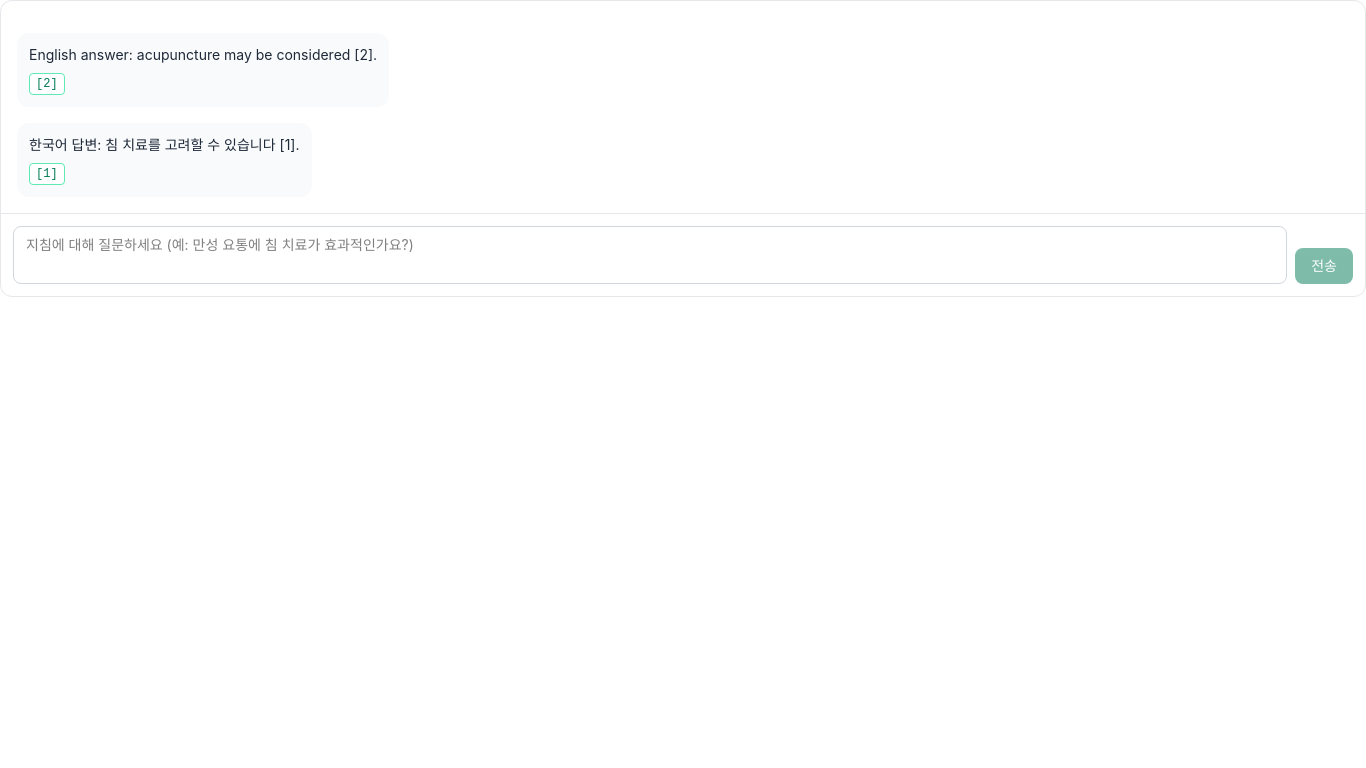
it: ChatPanel 메시지별 콘텐츠 언어 (spec 44) › 기준 27-a·27-b: 한 대화의 ko·en 블록은 각 인용을 자기 언어로 열고 서로의 언어를 누출하지 않는다
This screenshot has width=1366, height=768.
Click the button "[1]". click: (47,174)
box: [29,163,65,185]
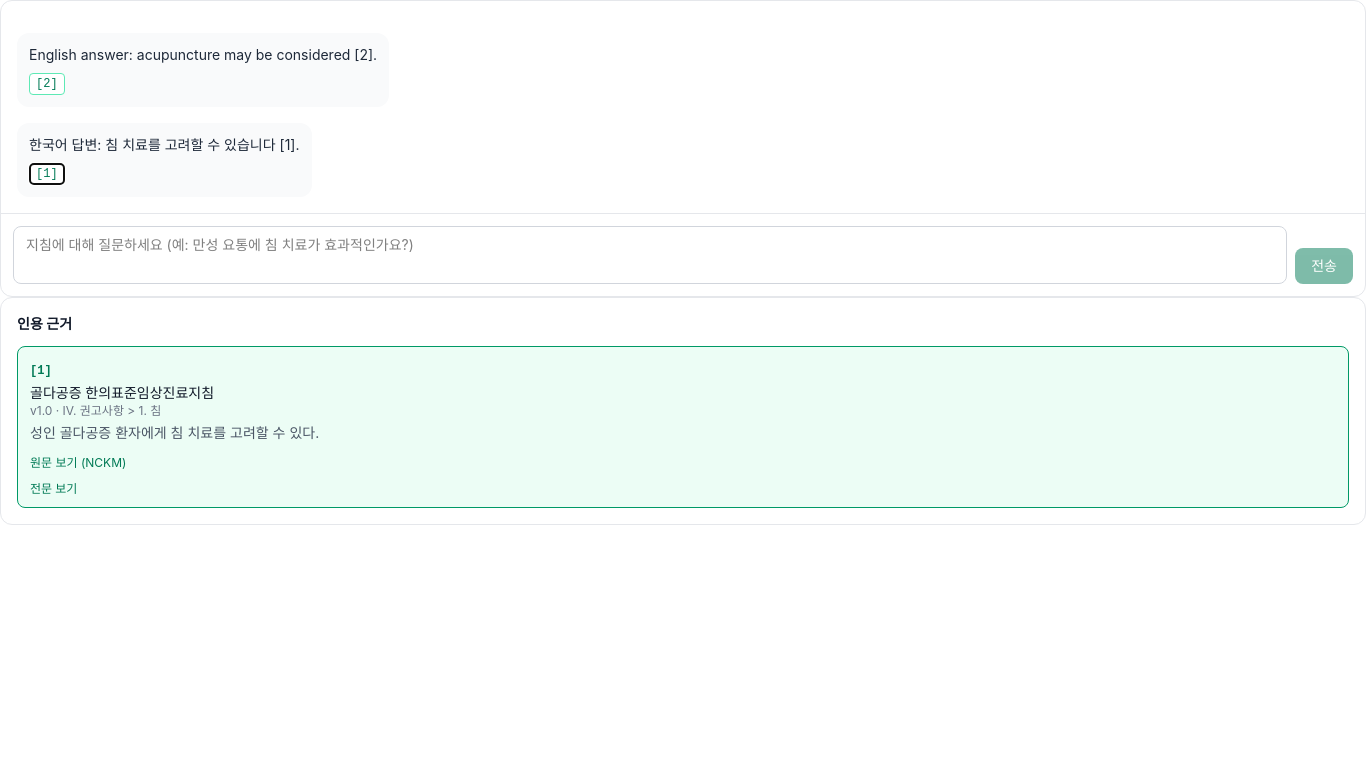
Expected: the text "Acupuncture may be considered for adults with osteoporosis." is not shown
Expected: the text "골다공증 한의표준임상진료지침" is shown, [30,384,214,401]
Expected: the text "성인 골다공증 환자에게 침 치료를 고려할 수 있다." is shown, [30,424,319,441]
Click the button "[2]". click: (47,84)
box: [29,73,65,95]
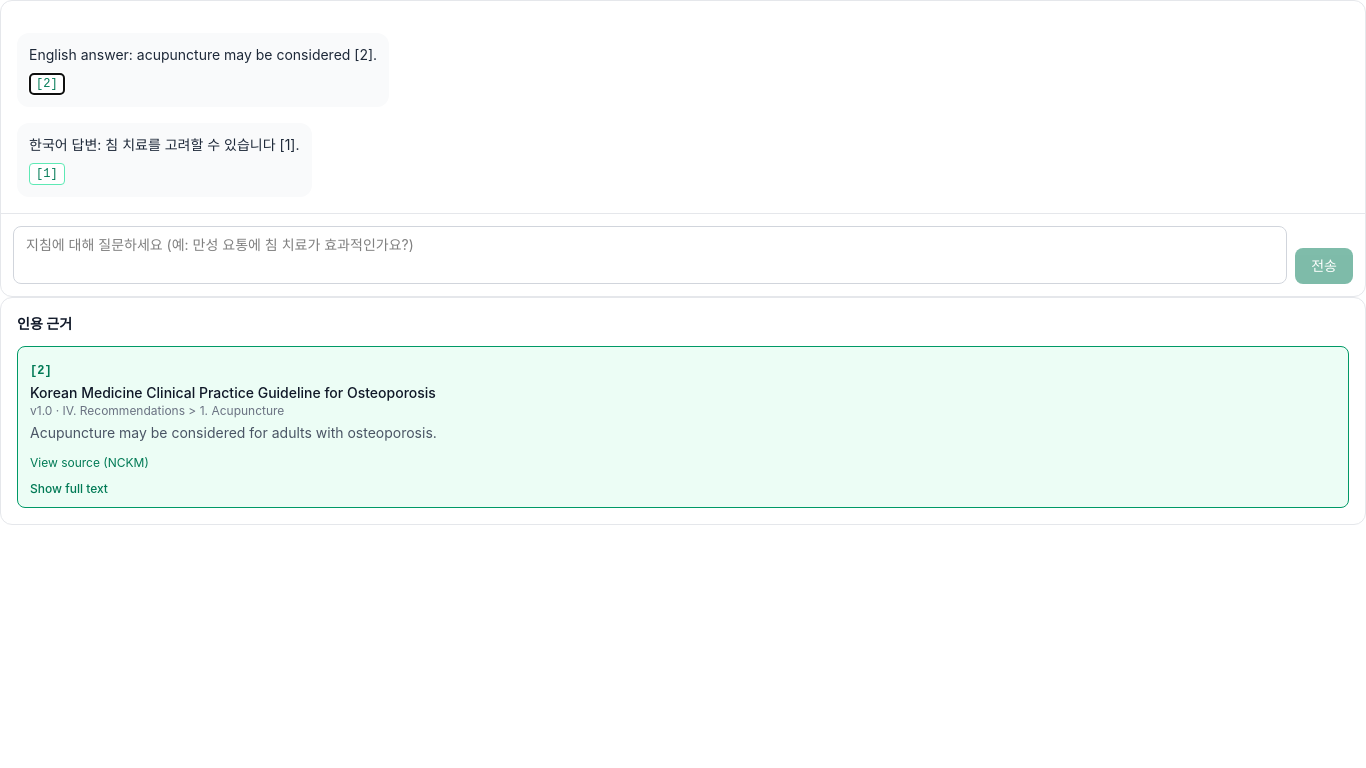
Expected: the text "Korean Medicine Clinical Practice Guideline for Osteoporosis" is shown, [30,384,436,401]
Expected: the text "Acupuncture may be considered for adults with osteoporosis." is shown, [30,424,437,441]
Expected: the button "골다공증 한의표준임상진료지침" is gone
